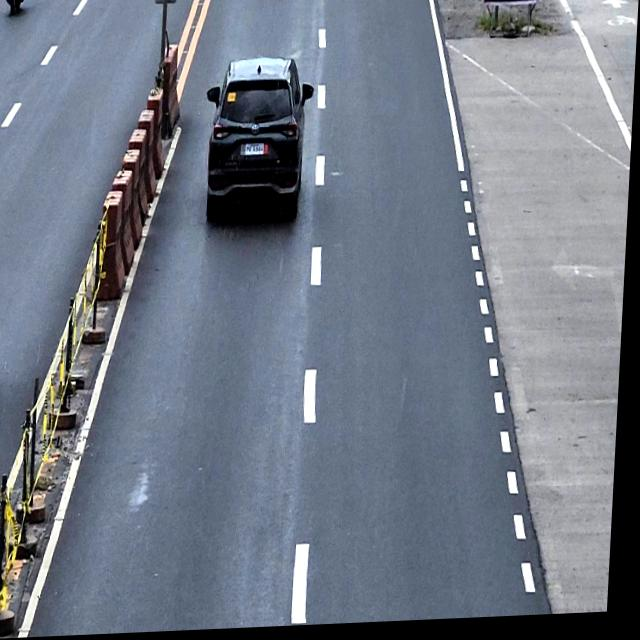Car: (202, 56, 317, 224)
License-Plate: (243, 142, 268, 159)
